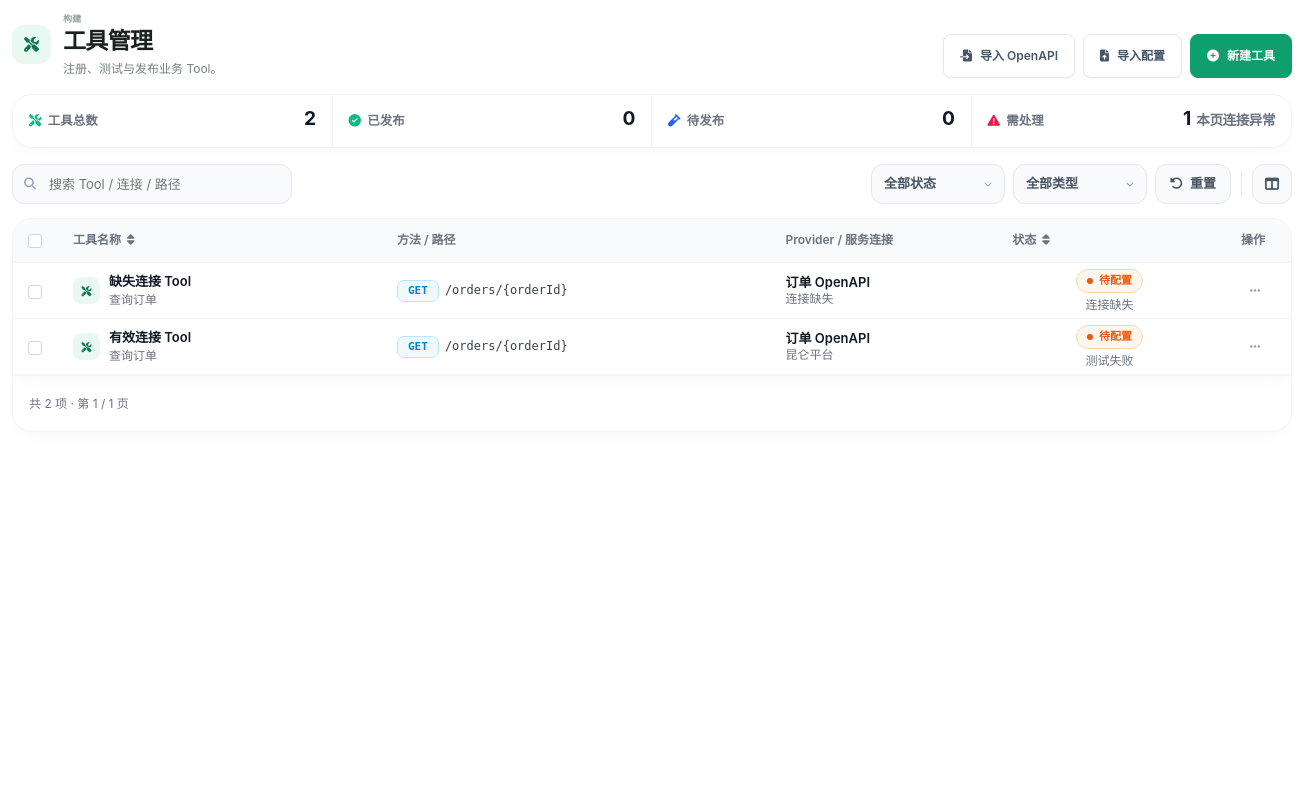
Test: tools view detail behavior › renders a menu-only overflow with tool actions in semantic order
This screenshot has width=1304, height=812.
Click the button named "更多工具操作" in the row of "缺失连接 Tool" at [1255, 291], box [1237,273,1273,309]
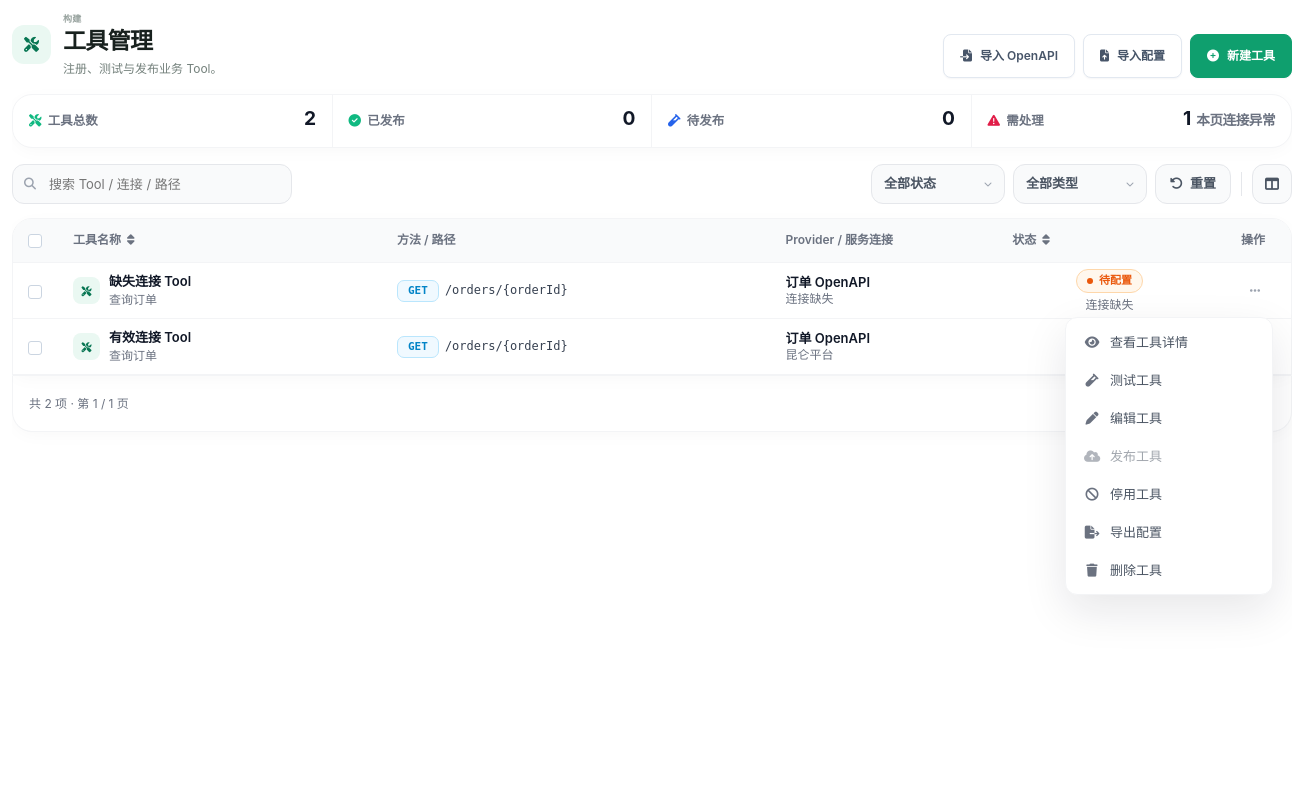
Check: the menu named "更多工具操作" is shown, box [1065,317,1273,595]
Check: the menu item "发布工具" is disabled, box [1072,438,1266,474]
